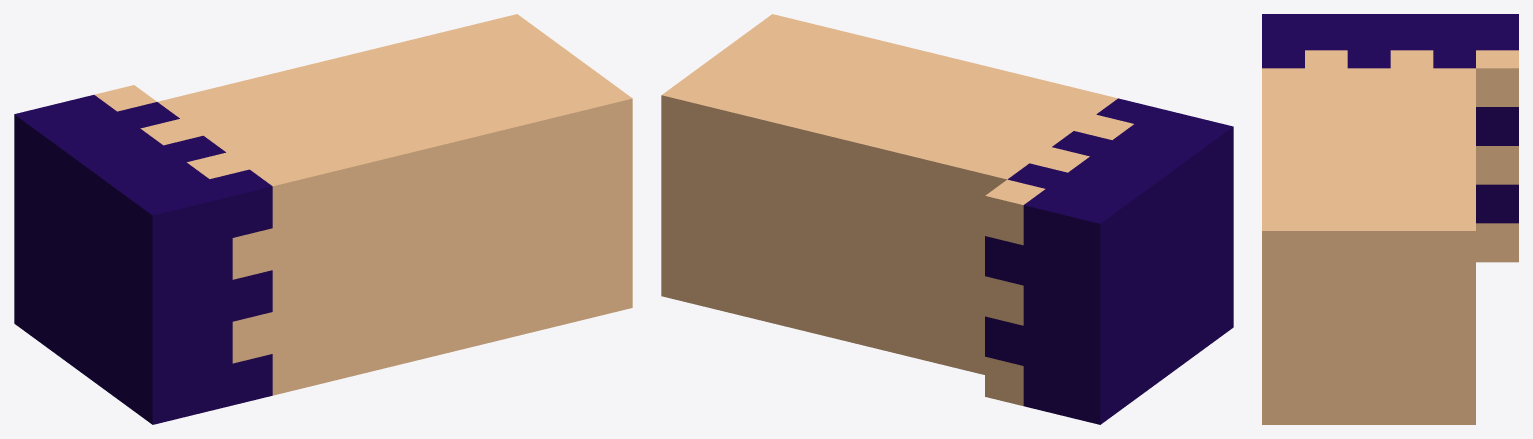
The model's file is Left_Arm_Graves.obj.
3 renders of one model, left to right at view 1: azimuth 30°, elevation 25°; view 2: azimuth 150°, elevation 25°; view 3: azimuth 270°, elevation 25°, orthographic. The views are drawn at different scales.
Bounding box in the file's own units: 1.2 × 0.5 × 0.6.
1 material, 1 textured.
